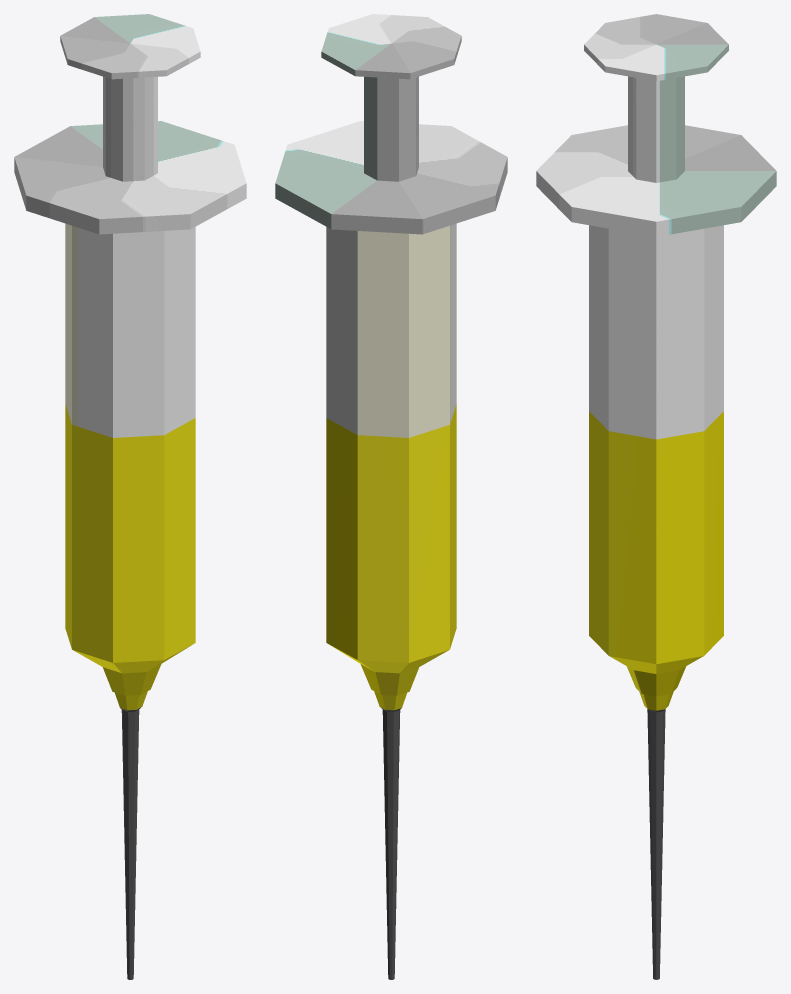
Rendered from Seringue2.fbx.
3 renders of one model, left to right at view 1: azimuth 30°, elevation 25°; view 2: azimuth 150°, elevation 25°; view 3: azimuth 270°, elevation 25°, orthographic.
Visible parts, largest first — view 1: Cylinder.001; view 2: Cylinder.001; view 3: Cylinder.001.
Boxes of the visible parts, x1,y1,x2,y2 form: Cylinder.001: (14,14,246,979); Cylinder.001: (275,14,507,979); Cylinder.001: (536,14,776,979).
Size of the model in its own units: 356 by 1527 by 356.
